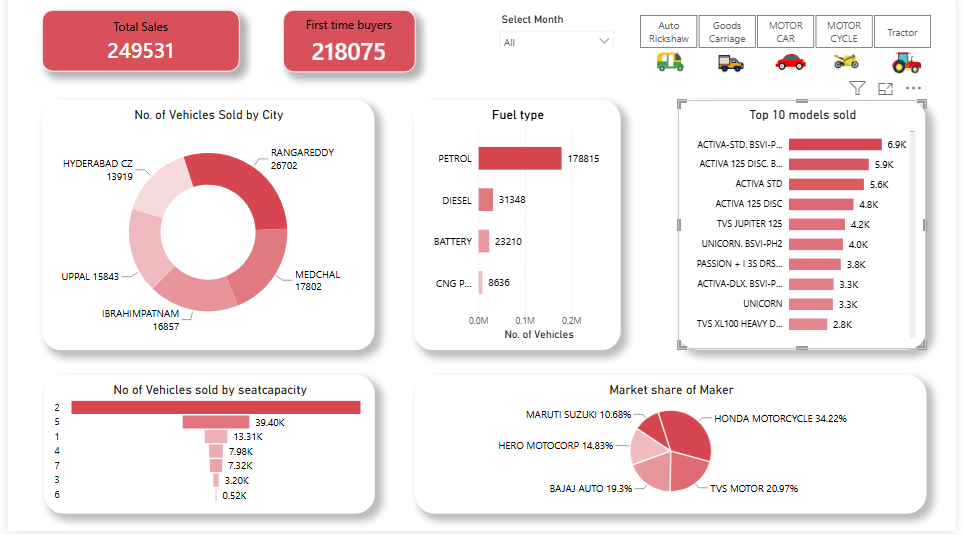

Layout of this report page (visuals, bound fields, positions):
{"tool":"powerbi","page":{"name":"Page 1","canvas":[1280,720],"ordinal":0},"visuals":[{"type":"group","id":"g1","title":"Group 1","box":[828.1,16.7,442.8,91],"z":0},{"type":"slicer","fields":{"Values":["ts_transport_online_sales_01_12_2025to31_12_2025.vehicleclass"]},"box":[828.1,16.7,442.8,56.3],"z":0,"group":"g1"},{"type":"image","box":[865.9,68.9,58.1,35.4],"z":1000,"group":"g1"},{"type":"donutChart","fields":{"Category":["ts_transport_online_sales_01_12_2025to31_12_2025.officecd"],"Y":["CountNonNull(ts_transport_online_sales_01_12_2025to31_12_2025.model description)"]},"box":[45.5,138,448.9,338.2],"z":1000},{"type":"cardVisual","fields":{"Data":["CountNonNull(ts_transport_online_sales_01_12_2025to31_12_2025.model description)"]},"box":[45.5,16.7,266.9,83.4],"z":2000},{"type":"image","box":[943.7,70.6,65.2,37.1],"z":2000,"group":"g1"},{"type":"image","box":[1022.2,69.3,69.1,34.4],"z":3000,"group":"g1"},{"type":"pieChart","title":"Market share of Maker","fields":{"Category":["ts_transport_online_sales_01_12_2025to31_12_2025.makername"],"Y":["CountNonNull(ts_transport_online_sales_01_12_2025to31_12_2025.model description)"]},"box":[550.5,509.8,691.1,186.6],"z":3000},{"type":"image","box":[1097.9,68,67.8,35.9],"z":4000,"group":"g1"},{"type":"barChart","title":"Fuel type","fields":{"Category":["ts_transport_online_sales_01_12_2025to31_12_2025.fuel"],"Y":["CountNonNull(ts_transport_online_sales_01_12_2025to31_12_2025.fuel)"]},"box":[549,138,279.1,338.2],"z":4000},{"type":"funnel","fields":{"Category":["ts_transport_online_sales_01_12_2025to31_12_2025.seatcapacity"],"Y":["CountNonNull(ts_transport_online_sales_01_12_2025to31_12_2025.seatcapacity)"]},"box":[48.6,509.8,446.7,186.6],"z":5000},{"type":"barChart","title":"Top 10 models sold","fields":{"Category":["ts_transport_online_sales_01_12_2025to31_12_2025.model description"],"Y":["CountNonNull(ts_transport_online_sales_01_12_2025to31_12_2025.model description)"]},"box":[905.4,138,335.2,336.7],"z":6000},{"type":"slicer","fields":{"Values":["dec.month"]},"box":[653.7,16.8,174.1,53.5],"z":7000},{"type":"image","box":[1187.5,68.2,53.1,34.9],"z":8000},{"type":"cardVisual","fields":{"Data":["dec.First time buyers"]},"box":[371.2,16.8,178.7,84],"z":9000}]}

Visuals, with their boxes in screenshot pixels (x1, y1, x2, y2), scaled from the page's 1280x720 canvas onto the 963x535 screenshot:
"Group 1" group: rect(623, 12, 956, 80)
slicer - ts_transport_online_sales_01_12_2025to31_12_2025.vehicleclass: rect(623, 12, 956, 54)
image: rect(651, 51, 695, 78)
donutChart - ts_transport_online_sales_01_12_2025to31_12_2025.officecd x CountNonNull(ts_transport_online_sales_01_12_2025to31_12_2025.model description): rect(34, 103, 372, 354)
cardVisual - CountNonNull(ts_transport_online_sales_01_12_2025to31_12_2025.model description): rect(34, 12, 235, 74)
image: rect(710, 52, 759, 80)
image: rect(769, 51, 821, 77)
"Market share of Maker" pieChart: rect(414, 379, 934, 517)
image: rect(826, 51, 877, 77)
"Fuel type" barChart: rect(413, 103, 623, 354)
funnel - ts_transport_online_sales_01_12_2025to31_12_2025.seatcapacity x CountNonNull(ts_transport_online_sales_01_12_2025to31_12_2025.seatcapacity): rect(37, 379, 373, 517)
"Top 10 models sold" barChart: rect(681, 103, 933, 353)
slicer - dec.month: rect(492, 12, 623, 52)
image: rect(893, 51, 933, 77)
cardVisual - dec.First time buyers: rect(279, 12, 414, 75)
